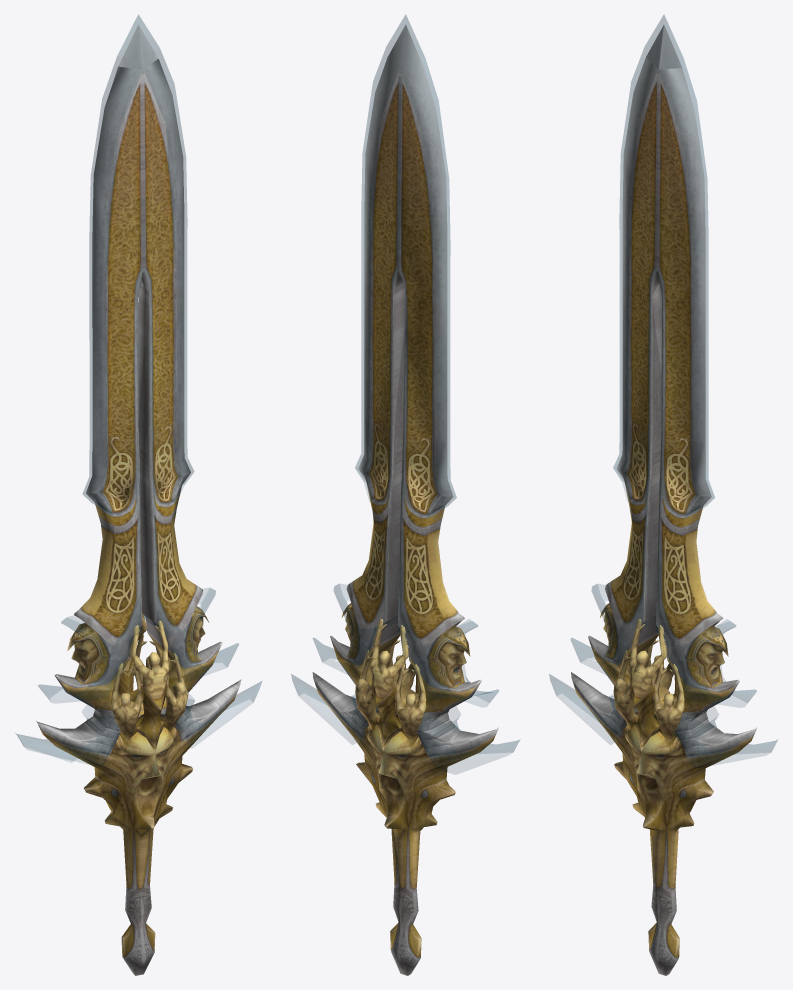
File: Espada_Olympus.glb
3 renders of one model, left to right at view 1: azimuth 30°, elevation 25°; view 2: azimuth 150°, elevation 25°; view 3: azimuth 330°, elevation 25°, orthographic.
Visible parts, largest first — view 1: Espada_Olympus, Object001; view 2: Espada_Olympus, Object001; view 3: Espada_Olympus, Object001.
Boxes of the visible parts, <box> form: Espada_Olympus: <box>36,24,241,975</box>; Object001: <box>16,14,261,766</box>; Espada_Olympus: <box>312,24,498,975</box>; Object001: <box>291,15,519,774</box>; Espada_Olympus: <box>571,24,757,975</box>; Object001: <box>549,15,777,768</box>.
Size of the model in its own units: 0.8655 by 3.32 by 0.3392.
2 materials, 2 textured.
